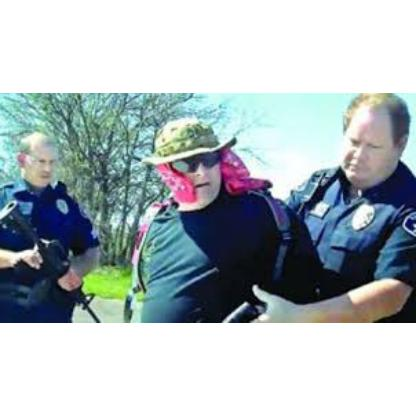gun: (1, 200, 105, 320)
